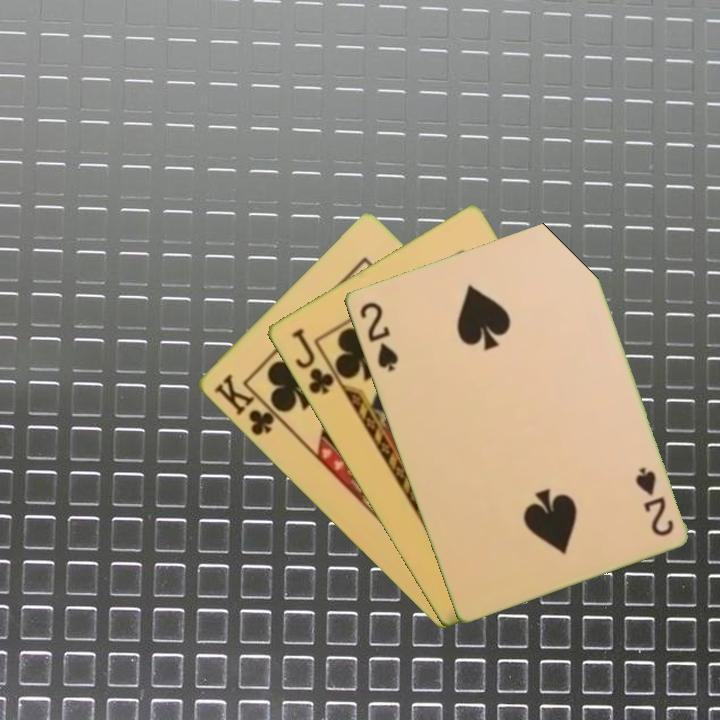2s: (356, 298, 401, 375), (631, 463, 676, 539)
Jc: (288, 324, 337, 398)
Kc: (209, 370, 285, 439)
